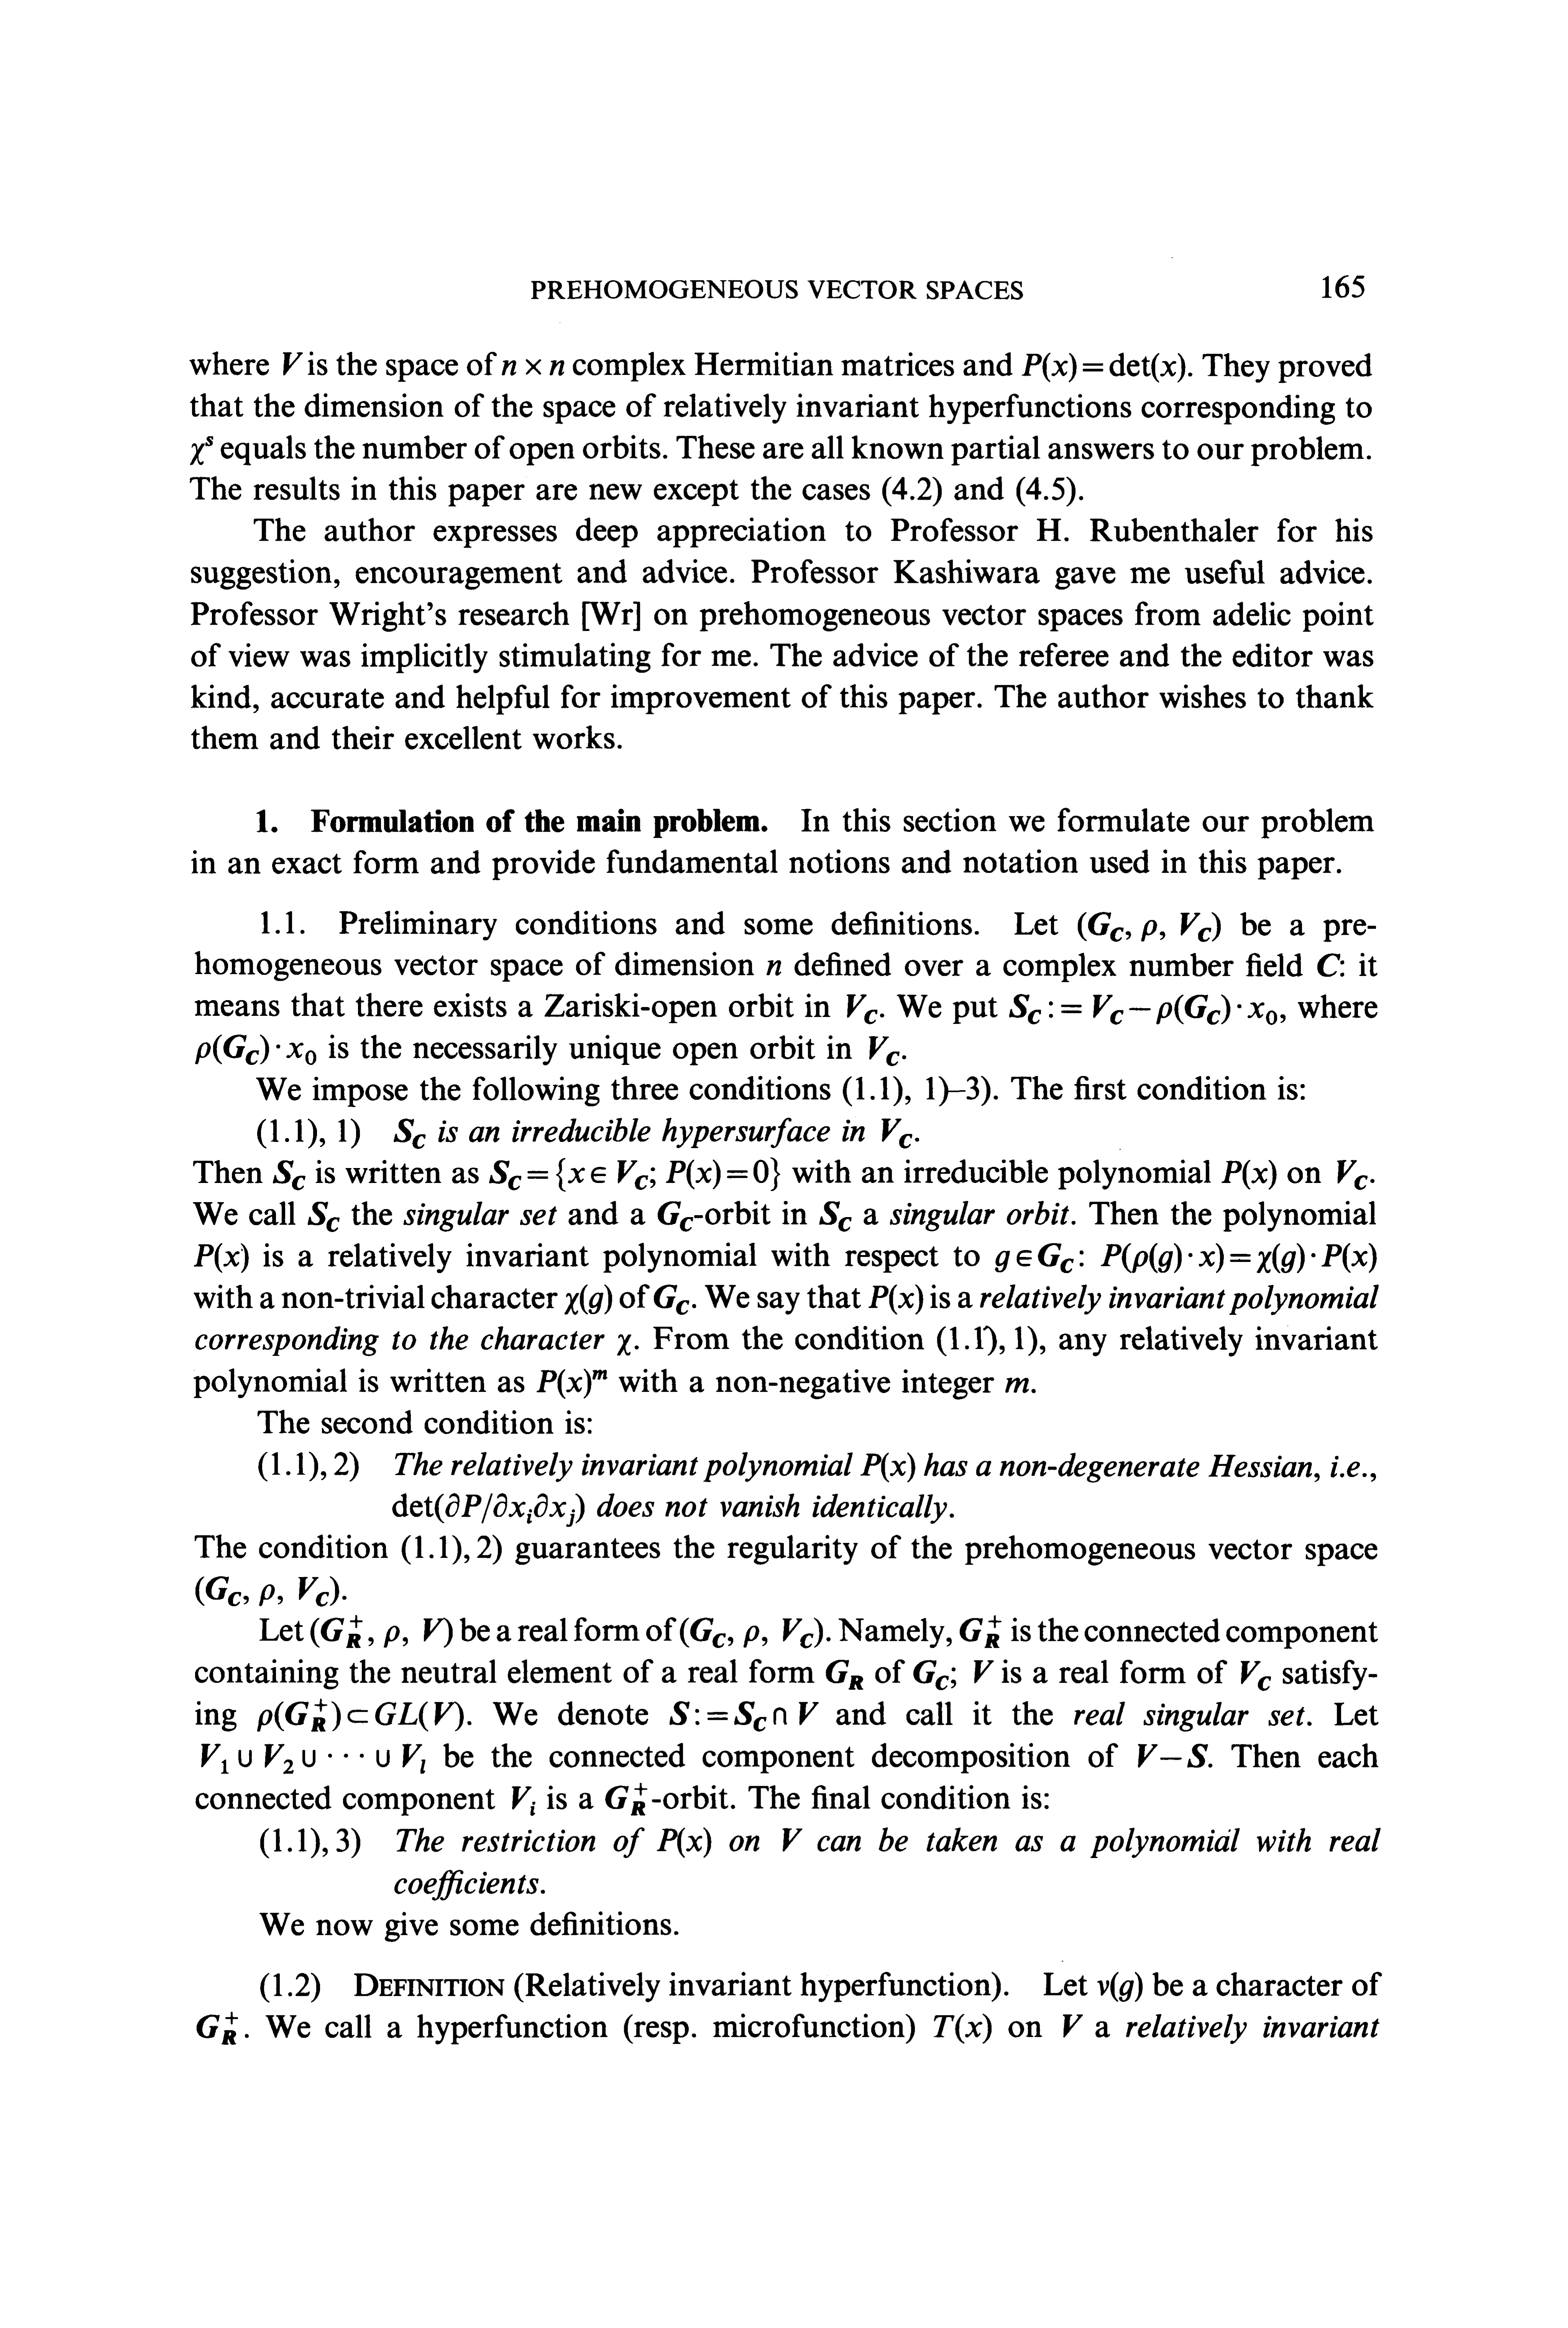maths: (996, 1243, 1377, 1273), (488, 1157, 780, 1192), (1010, 994, 1277, 1024), (257, 1698, 464, 1731), (201, 1743, 425, 1773), (392, 1493, 584, 1526), (1022, 352, 1185, 382), (196, 1575, 339, 1607), (310, 1616, 451, 1647), (670, 1701, 819, 1731), (679, 1617, 822, 1647), (1078, 912, 1220, 942), (194, 1034, 315, 1064), (537, 1369, 607, 1399), (1137, 1743, 1207, 1768), (934, 2013, 990, 2043), (194, 1243, 248, 1273), (868, 1285, 922, 1315), (861, 1453, 915, 1483), (656, 1827, 710, 1857), (1221, 1160, 1276, 1189), (196, 2011, 238, 2044), (565, 1285, 611, 1315), (605, 1784, 647, 1815), (1097, 1973, 1143, 2001), (961, 1616, 1001, 1647), (826, 1659, 863, 1689), (658, 1201, 693, 1231), (913, 1659, 948, 1689), (819, 1201, 852, 1231), (654, 1285, 688, 1315), (502, 359, 563, 375), (394, 1118, 425, 1148), (273, 1160, 304, 1190), (308, 1203, 339, 1232), (847, 994, 877, 1024), (870, 1036, 899, 1066), (882, 1118, 912, 1148), (1337, 1160, 1367, 1190), (1241, 1661, 1270, 1691), (191, 436, 213, 464), (513, 1787, 535, 1815), (1318, 954, 1344, 977), (1062, 2015, 1083, 2037), (283, 352, 303, 375), (975, 1659, 994, 1682), (782, 1829, 801, 1852), (1006, 1378, 1029, 1393), (618, 1334, 630, 1355), (766, 961, 780, 975)
